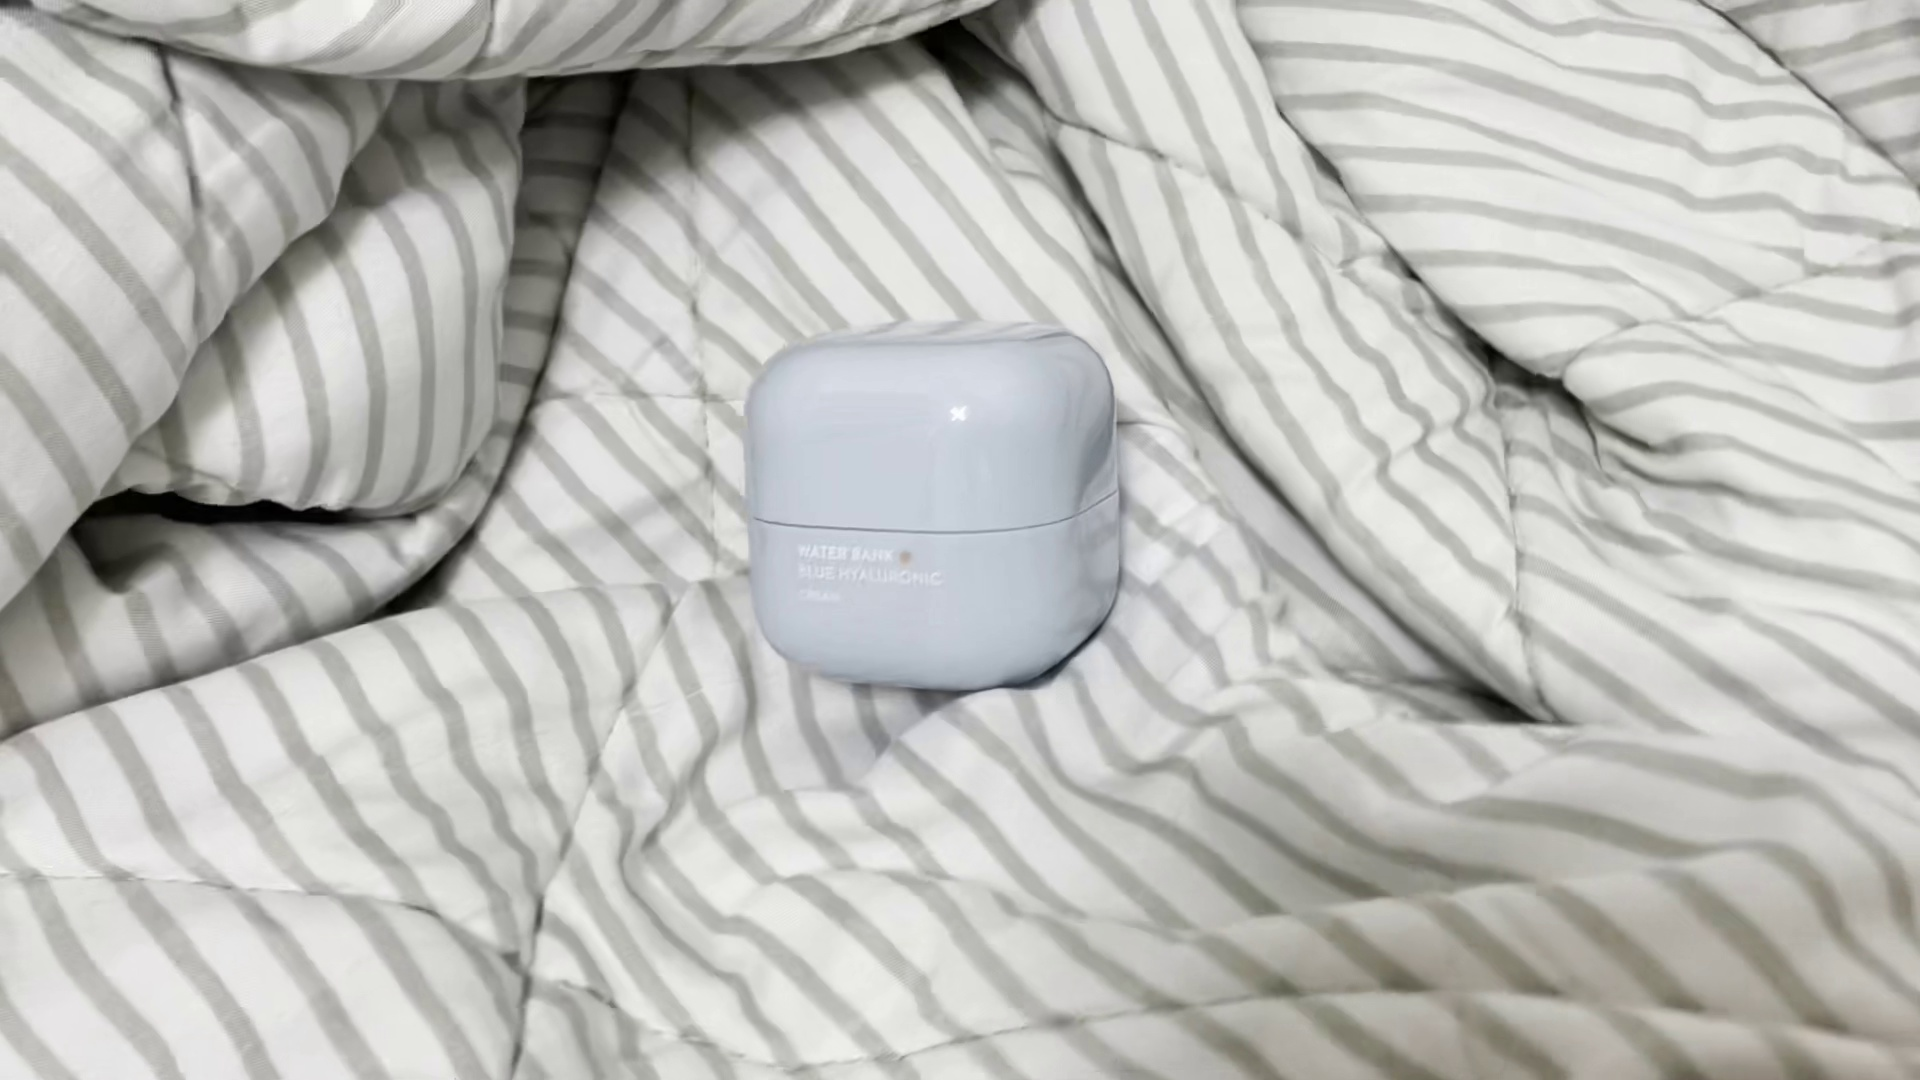cream: (746, 316, 1130, 692)
